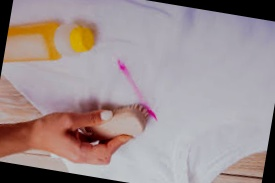lipstick: (114, 57, 133, 78), (143, 102, 158, 121), (132, 85, 142, 97)
